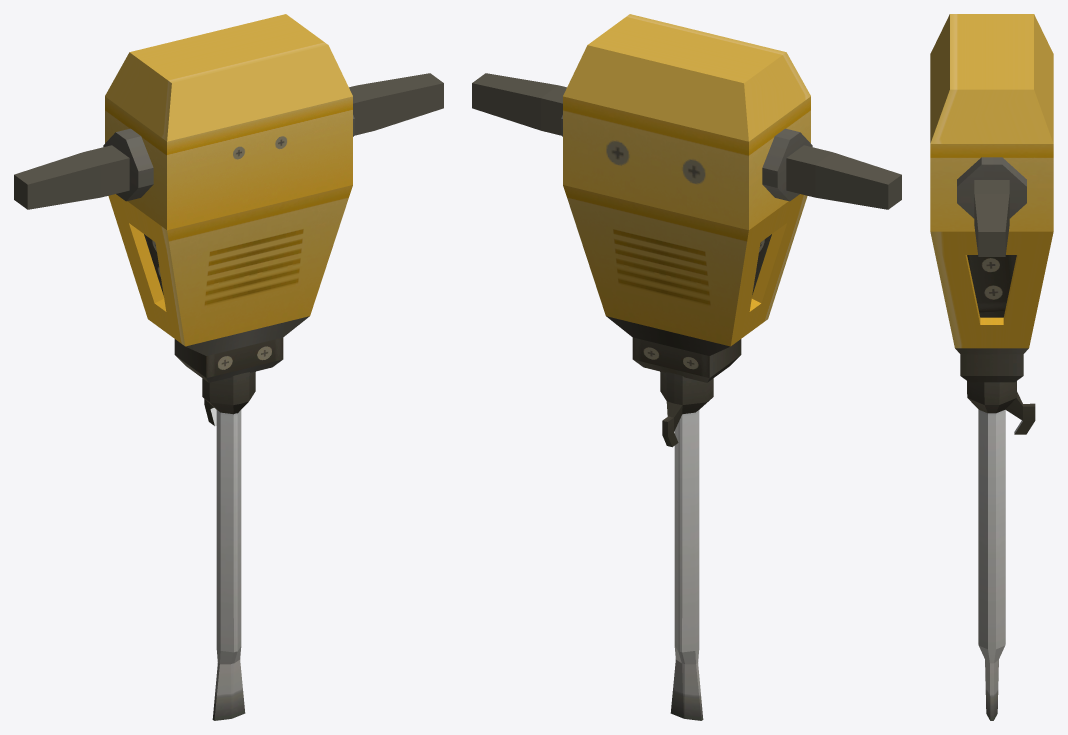
File: JackHammer.fbx
3 renders of one model, left to right at view 1: azimuth 30°, elevation 25°; view 2: azimuth 150°, elevation 25°; view 3: azimuth 270°, elevation 25°, orthographic.
Visible parts, largest first — view 1: JackHammer, Hammer; view 2: JackHammer, Hammer; view 3: JackHammer, Hammer.
Boxes of the visible parts, left/top/right/bottom form: JackHammer: left=14, top=14, right=443, bottom=382; Hammer: left=202, top=371, right=255, bottom=720; JackHammer: left=472, top=14, right=901, bottom=382; Hammer: left=660, top=371, right=713, bottom=720; JackHammer: left=930, top=14, right=1053, bottom=382; Hammer: left=967, top=381, right=1035, bottom=720.
Bounding box in the file's own units: 1.17 × 1.79 × 0.3024.
